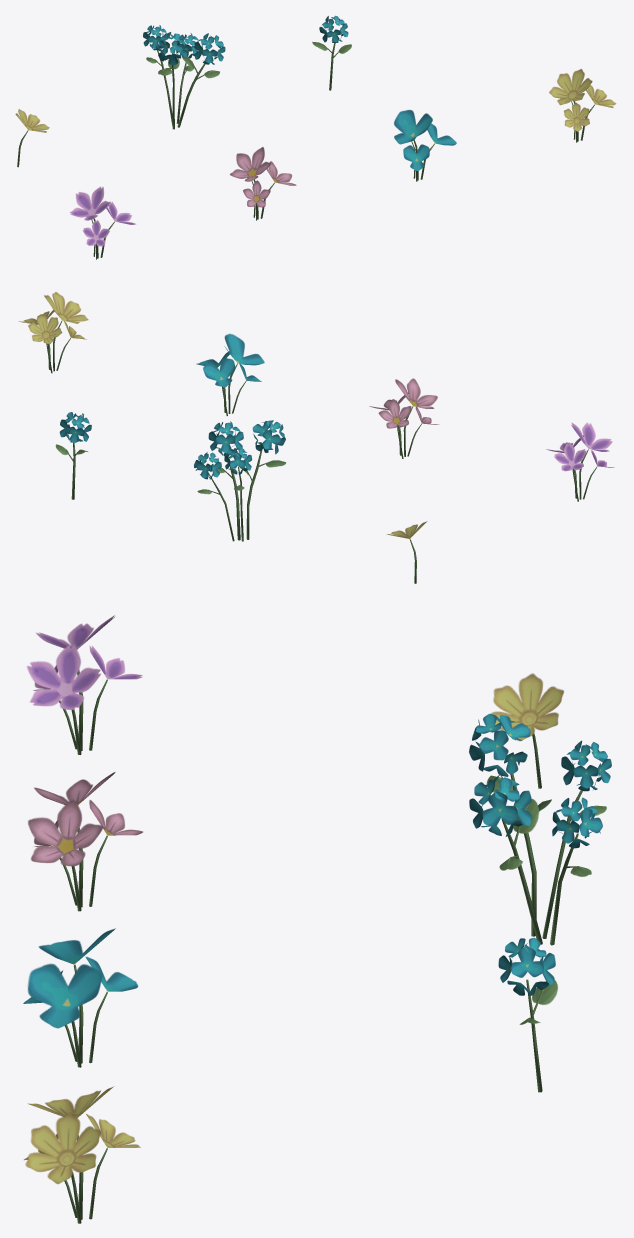
File: kesme1.glb
The picture shows the model from 3 angles, top to bottom: view 1: azimuth 30°, elevation 25°; view 2: azimuth 150°, elevation 25°; view 3: azimuth 270°, elevation 25°; orthographic projection. The views are drawn at different scales.
Visible parts, largest first — view 1: Flower_1_Clump, Flower_2_Clump, Flower_3_Clump, Flower_4_Clump, Flower_5_Clump, Flower_1, Flower_2; view 2: Flower_1_Clump, Flower_2_Clump, Flower_3_Clump, Flower_4_Clump, Flower_5_Clump, Flower_1; view 3: Flower_1_Clump, Flower_2_Clump, Flower_3_Clump, Flower_4_Clump, Flower_5_Clump, Flower_2, Flower_1.
Boxes of the visible parts, x1,y1,x2,y2 form: Flower_1_Clump: [143, 25, 225, 129]; Flower_2_Clump: [549, 69, 616, 142]; Flower_3_Clump: [394, 110, 456, 181]; Flower_4_Clump: [230, 147, 296, 220]; Flower_5_Clump: [69, 186, 135, 259]; Flower_1: [312, 15, 351, 90]; Flower_2: [15, 109, 49, 167]; Flower_1_Clump: [194, 420, 286, 541]; Flower_2_Clump: [19, 292, 88, 373]; Flower_3_Clump: [196, 333, 264, 415]; Flower_4_Clump: [369, 378, 438, 458]; Flower_5_Clump: [546, 422, 614, 501]; Flower_1: [55, 412, 91, 499]; Flower_1_Clump: [469, 713, 611, 945]; Flower_2_Clump: [24, 1086, 140, 1223]; Flower_3_Clump: [23, 928, 138, 1067]; Flower_4_Clump: [28, 772, 142, 911]; Flower_5_Clump: [27, 615, 142, 754]; Flower_2: [491, 673, 563, 788]; Flower_1: [498, 937, 557, 1092].
Size of the model in its own units: 3.59 by 0.6742 by 1.71.
Materials: 1 (1 with a texture image).
